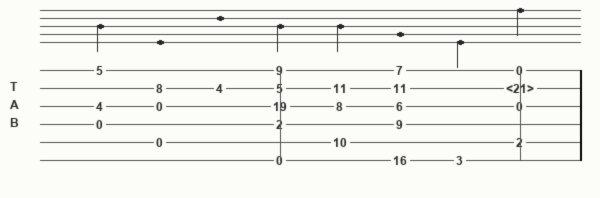0: (96, 118, 107, 131), (156, 100, 167, 113), (156, 136, 167, 149), (276, 154, 287, 167), (516, 64, 527, 77), (516, 100, 527, 113)
10: (333, 136, 351, 149)
11: (333, 82, 351, 95), (393, 82, 411, 95)
16: (393, 154, 411, 167)
19: (273, 100, 291, 113)
2: (276, 118, 287, 131), (516, 136, 527, 149)
3: (456, 154, 467, 167)
4: (96, 100, 107, 113), (216, 82, 227, 95)
5: (96, 64, 107, 77), (276, 82, 287, 95)
6: (396, 100, 407, 113)
7: (396, 64, 407, 77)
8: (156, 82, 167, 95), (336, 100, 347, 113)
9: (276, 64, 287, 77), (396, 118, 407, 131)
harmonic: (506, 82, 538, 95)
